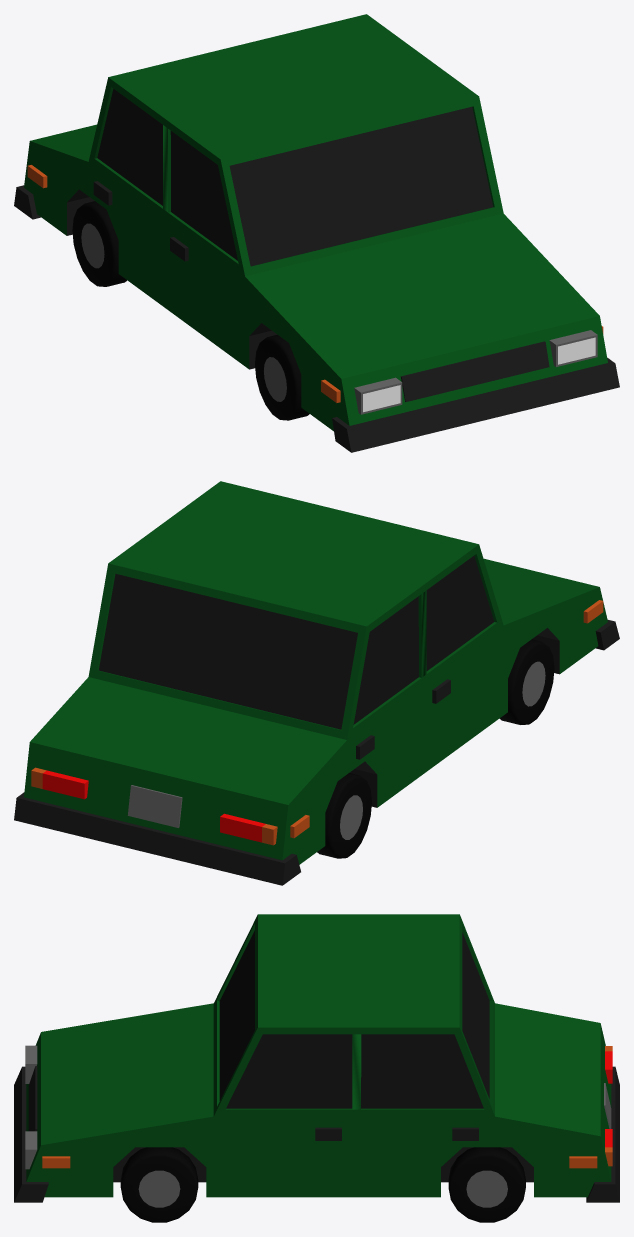
File: CAR GREEN.FBX
3 renders of one model, top to bottom at view 1: azimuth 30°, elevation 25°; view 2: azimuth 150°, elevation 25°; view 3: azimuth 270°, elevation 25°, orthographic. The views are drawn at different scales.
Parts seen in each view (by area): view 1: CAR_TYPE_1_GREEN, CAR_TYPE_1_GREEN_WHEEL_FL, CAR_TYPE_1_GREEN_WHEEL_BL; view 2: CAR_TYPE_1_GREEN, CAR_TYPE_1_GREEN_WHEEL_BL, CAR_TYPE_1_GREEN_WHEEL_FL; view 3: CAR_TYPE_1_GREEN, CAR_TYPE_1_GREEN_WHEEL_FR, CAR_TYPE_1_GREEN_WHEEL_BR.
Part boxes in pixels (bbox=[...]): CAR_TYPE_1_GREEN: bbox=[14, 14, 619, 452]; CAR_TYPE_1_GREEN_WHEEL_FL: bbox=[255, 334, 309, 420]; CAR_TYPE_1_GREEN_WHEEL_BL: bbox=[72, 201, 126, 286]; CAR_TYPE_1_GREEN: bbox=[14, 481, 619, 885]; CAR_TYPE_1_GREEN_WHEEL_BL: bbox=[317, 773, 371, 858]; CAR_TYPE_1_GREEN_WHEEL_FL: bbox=[499, 639, 554, 724]; CAR_TYPE_1_GREEN: bbox=[14, 914, 619, 1202]; CAR_TYPE_1_GREEN_WHEEL_FR: bbox=[120, 1147, 198, 1222]; CAR_TYPE_1_GREEN_WHEEL_BR: bbox=[448, 1147, 525, 1222].
Bounding box in the file's own units: 2.06 × 1.6 × 4.49.
